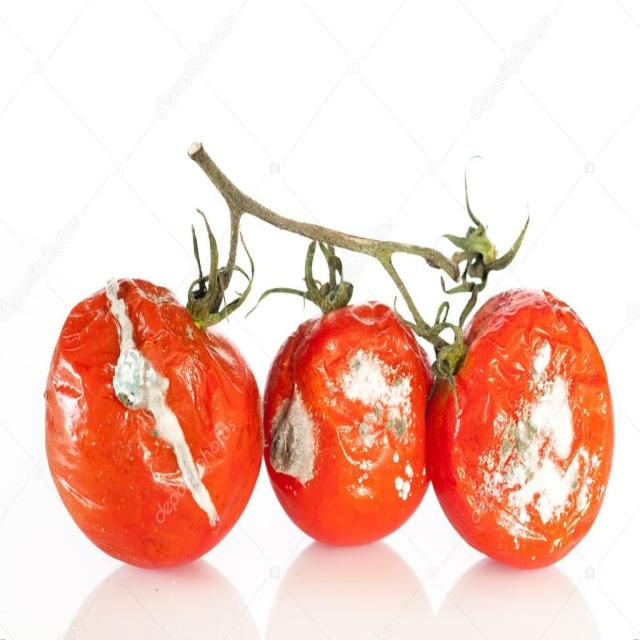damaged: (42, 258, 264, 576), (429, 274, 616, 574), (262, 246, 440, 550)
